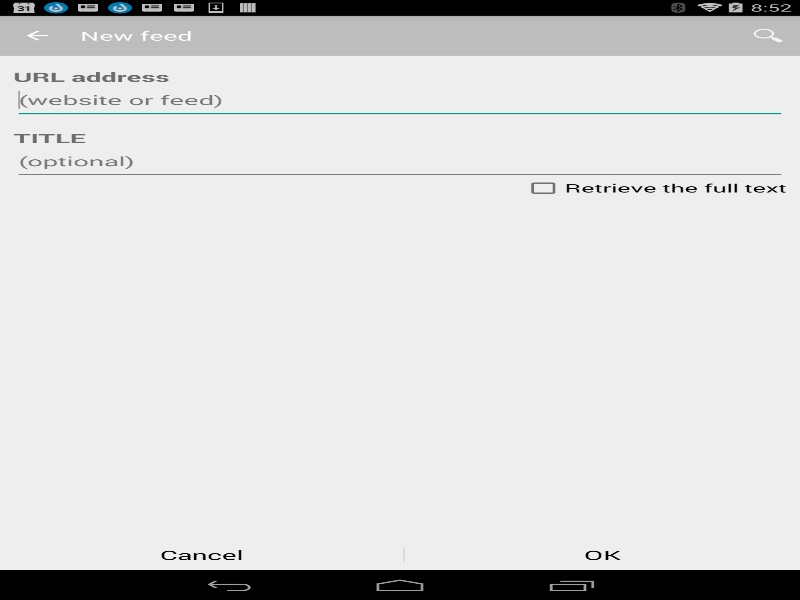Button: (0, 540, 403, 570), (404, 540, 800, 570), (0, 18, 74, 53)
Input: (13, 88, 786, 116), (13, 150, 786, 178)
